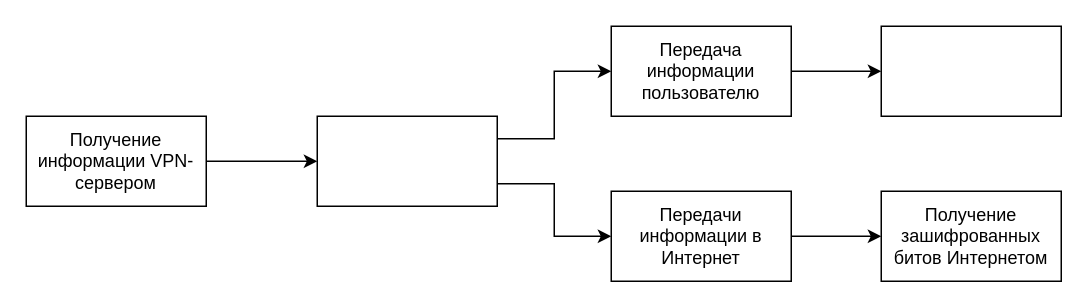
The diagram is 1088 pixels wide and 308 high, and some of its shapes have lost their labels. The shapes that lost their labels are listed below. From the top down, each one's centre as x and y in pixels, then its label:
(x=970, y=70): Получение расшифрованных битов пользователем
(x=406, y=160): Преобразование битов через протокол SSTP
